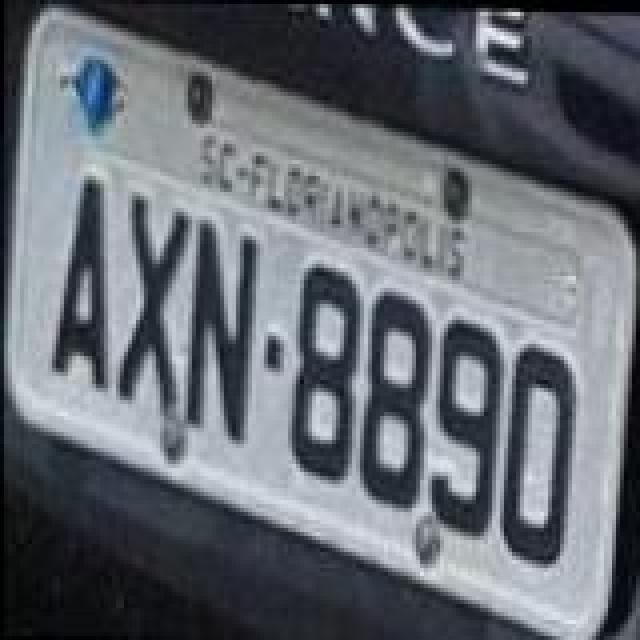8: (352, 288, 432, 508), (288, 260, 364, 484)
9: (424, 314, 504, 542)
A: (50, 174, 114, 394)
N: (182, 214, 262, 442)
O: (494, 340, 578, 568)
X: (114, 194, 194, 414)
